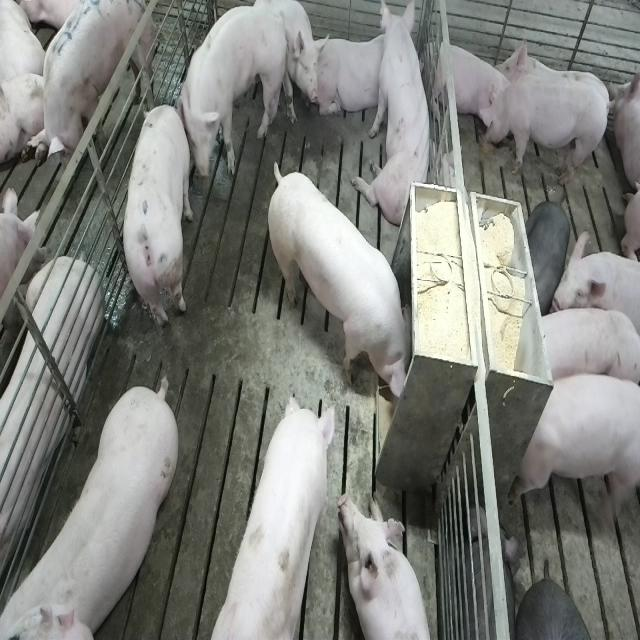Feeding: (271, 160, 421, 408), (187, 393, 336, 640)
Sitting: (356, 4, 437, 233)
Standing: (5, 372, 184, 635), (26, 0, 152, 186), (514, 370, 638, 528), (121, 93, 194, 335), (481, 79, 613, 185), (534, 306, 640, 398)
Sternal_lying: (0, 181, 102, 584), (340, 492, 437, 640), (307, 33, 394, 121), (429, 36, 508, 132)
